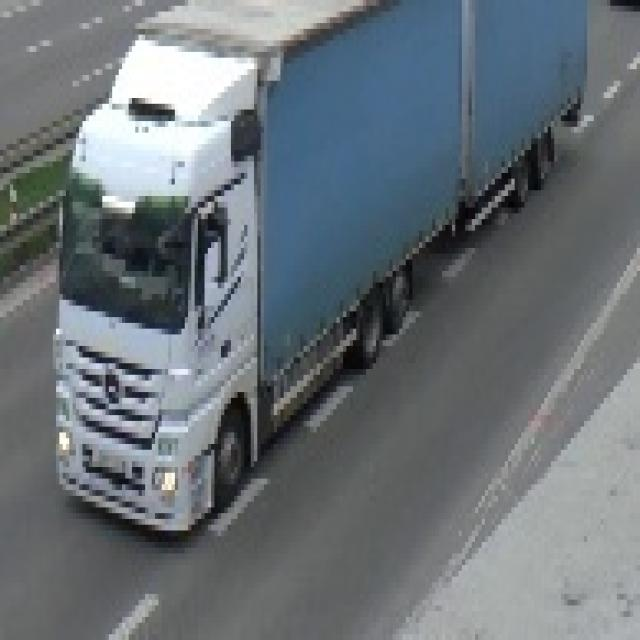TRUCK: (52, 0, 592, 528)
